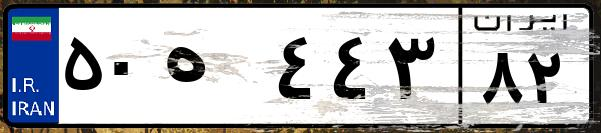0: (110, 28, 158, 98)
2: (525, 38, 570, 115)
3: (385, 28, 445, 110)
4: (270, 28, 330, 110), (330, 28, 385, 110)
5: (57, 26, 110, 100)
8: (475, 38, 525, 113)
ه: (158, 20, 270, 120)
